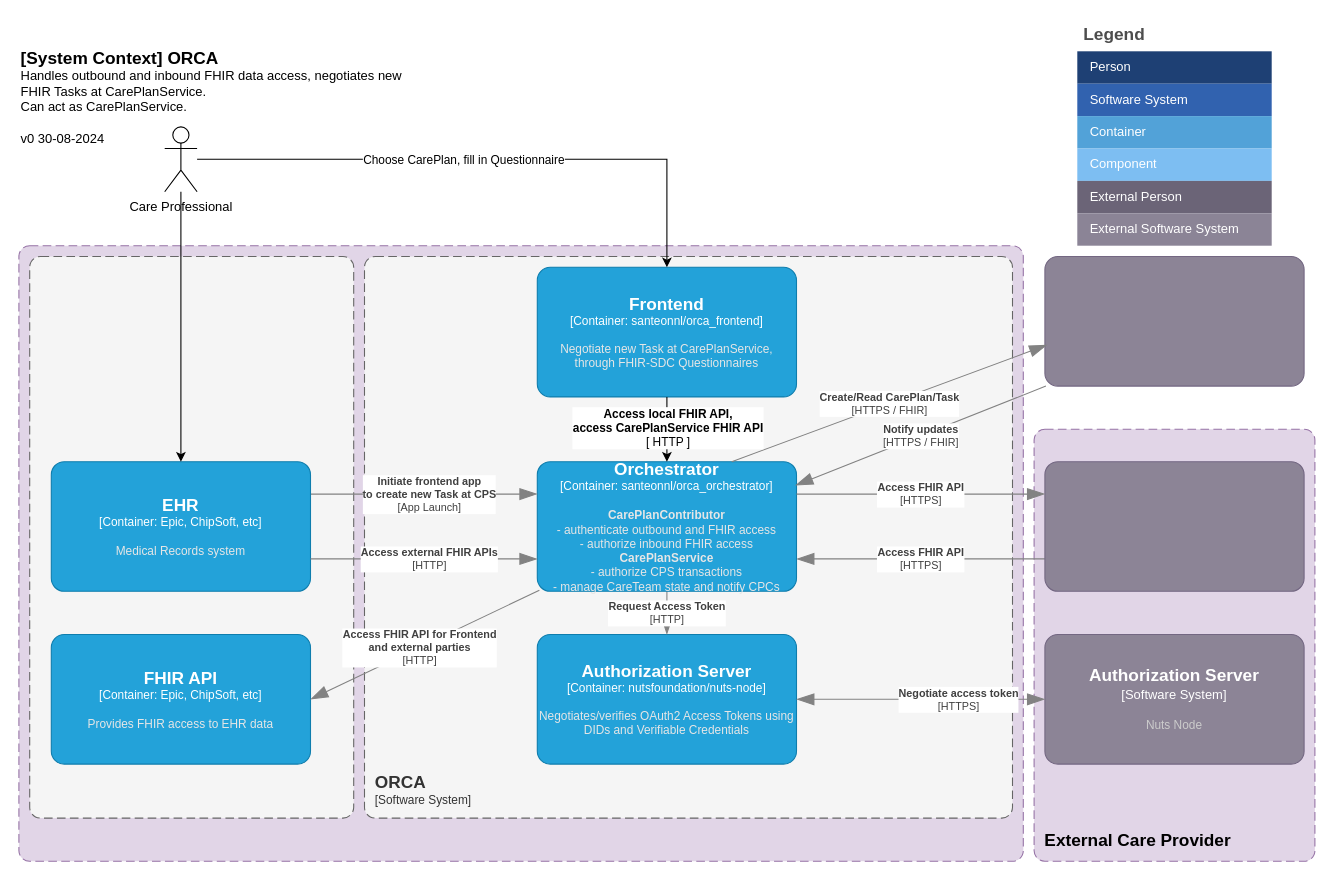
This 1334x880 diagram has some shape labels left out. The box of each missing label's shape, as (x1, y1, x2, y2) in pixels:
Care Plan Contributor [FHIR API]: (1044, 461, 1304, 591)
Care Plan Service [Software System] Manages Shared Care Plans: (1044, 255, 1304, 386)
Care Provider: (18, 245, 1023, 861)
XIS [Software System]: (29, 255, 354, 818)
